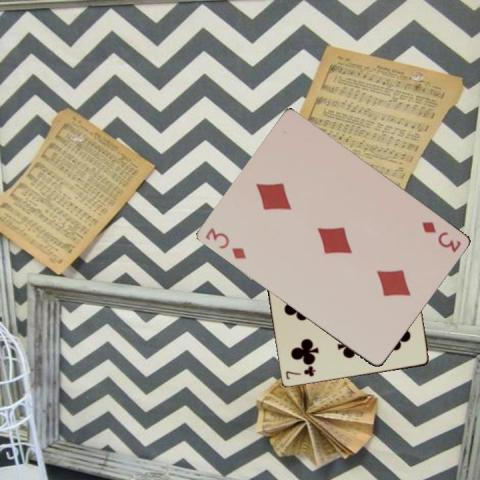3d: (418, 218, 462, 254), (202, 225, 247, 260)
7c: (282, 364, 316, 380)
